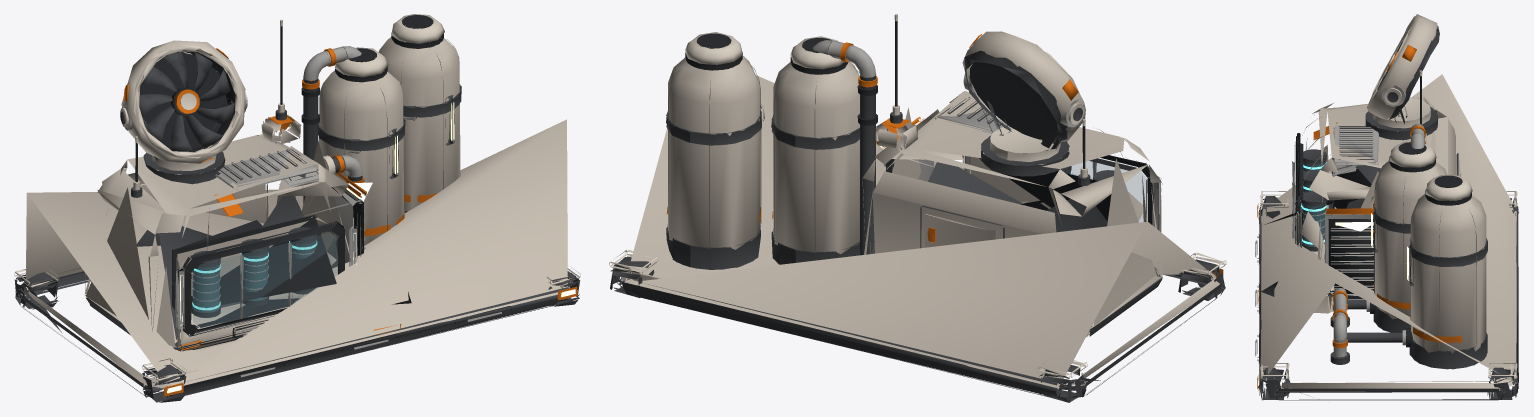
Rendered from life-support.glb.
3 renders of one model, left to right at view 1: azimuth 30°, elevation 25°; view 2: azimuth 150°, elevation 25°; view 3: azimuth 270°, elevation 25°, orthographic. The views are drawn at different scales.
Parts seen in each view (by area): view 1: life-support; view 2: life-support; view 3: life-support.
Part boxes in pixels (x1,y1,x2,y2): life-support: (14,14,580,402); life-support: (609,14,1226,402); life-support: (1255,14,1518,400).
Bounding box in the file's own units: 10.98 × 6.15 × 5.86.
